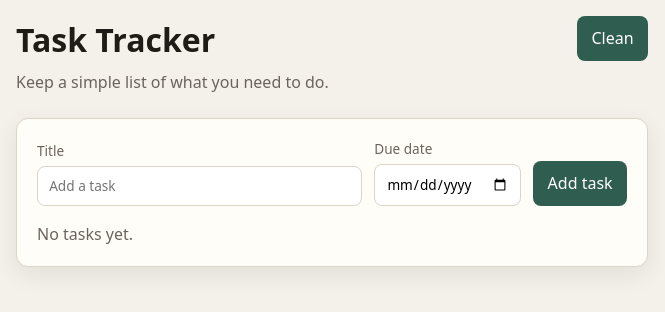
TaskListPage › creates a task from the form
Expected: the text "No tasks yet." is shown, [37, 223, 133, 245]
Step 1. Type "Buy milk" into the field labelled "Title" → [200, 186], box [37, 166, 362, 206]
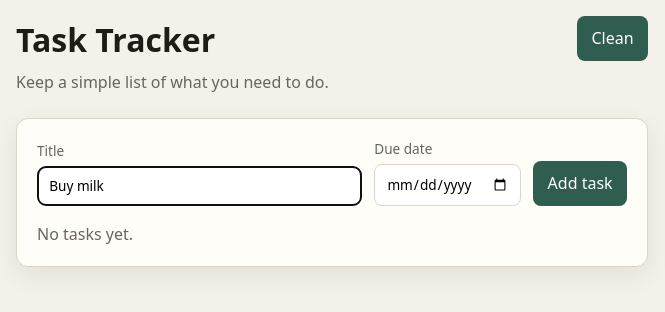
Step 2. Click the button "Add task" → [580, 183], box [533, 161, 627, 206]
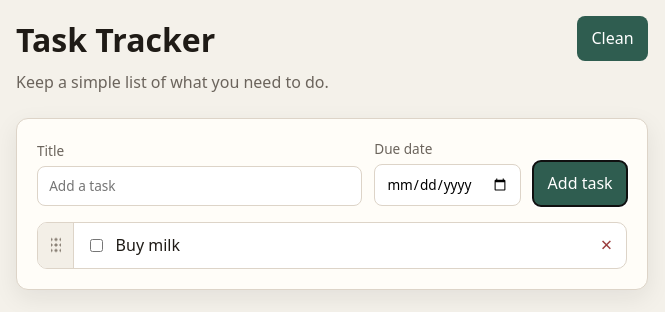
Expected: the text "Buy milk" is shown, [116, 233, 180, 257]
